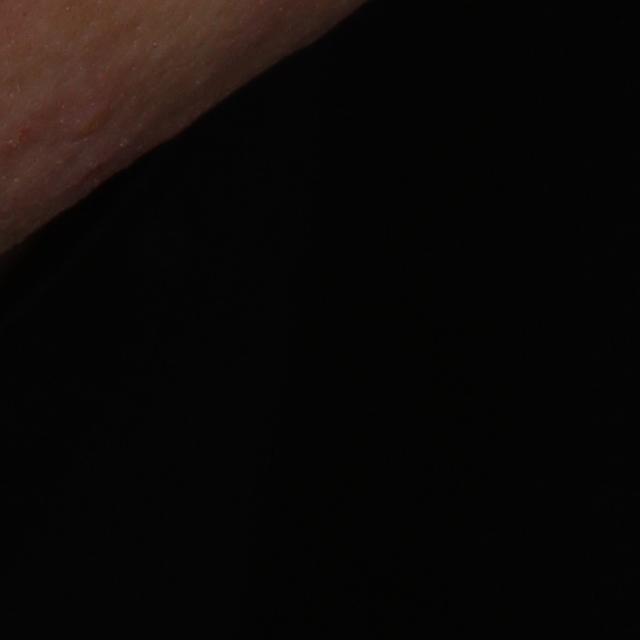papule: (63, 100, 116, 142)
